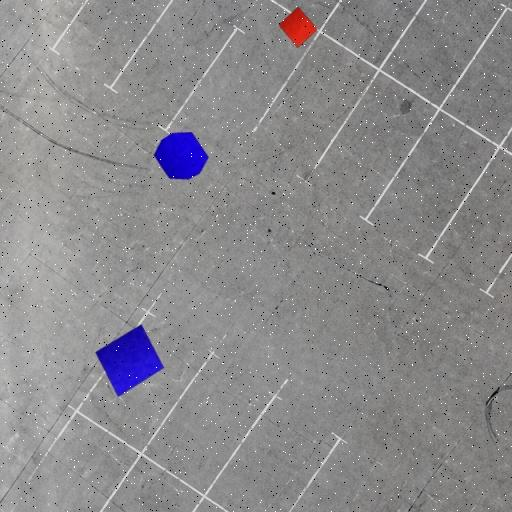BLUE_SQUARE: (95, 324, 165, 398)
RED_SQUARE: (278, 6, 318, 49)
